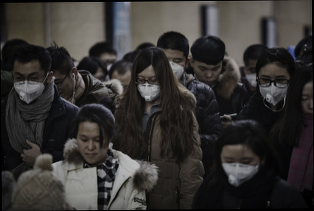with_mask: (219, 154, 260, 189), (13, 68, 47, 104), (258, 72, 291, 106), (136, 72, 163, 102), (165, 54, 187, 80), (243, 64, 259, 88)
without_mask: (76, 132, 110, 165), (193, 61, 223, 85), (52, 75, 76, 100), (300, 90, 313, 122)
